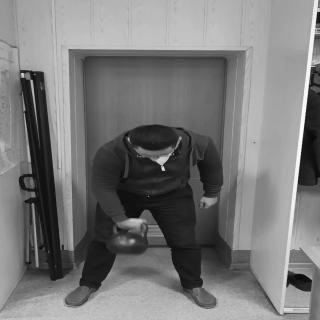girya: (107, 223, 152, 257)
